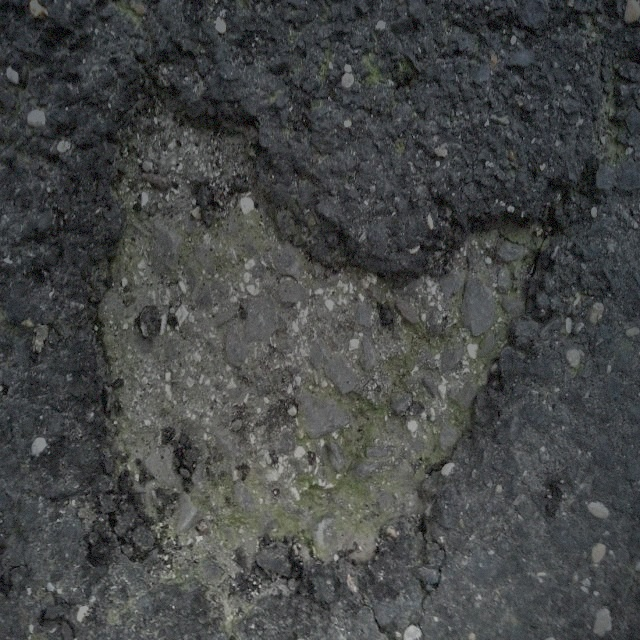pothole: (86, 54, 550, 586)
